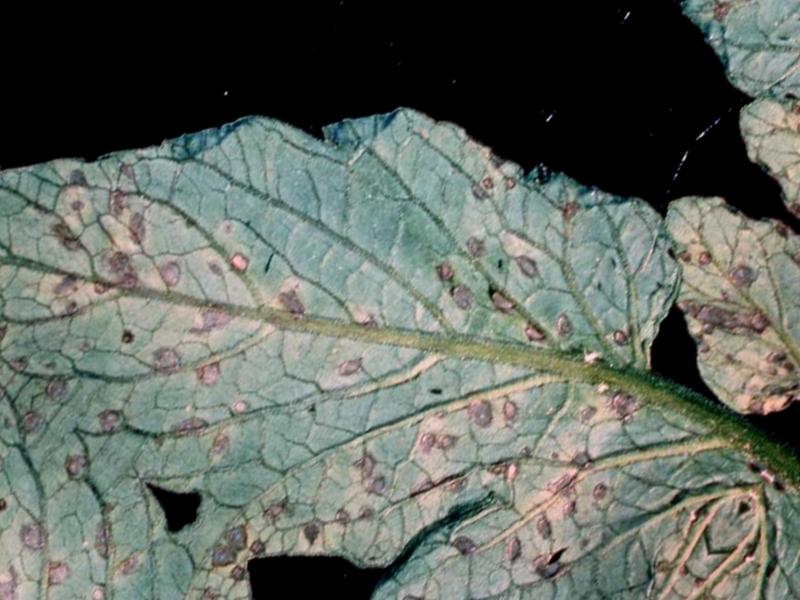Tomato Septoria leaf spot: (0, 0, 800, 600), (589, 162, 800, 448)
